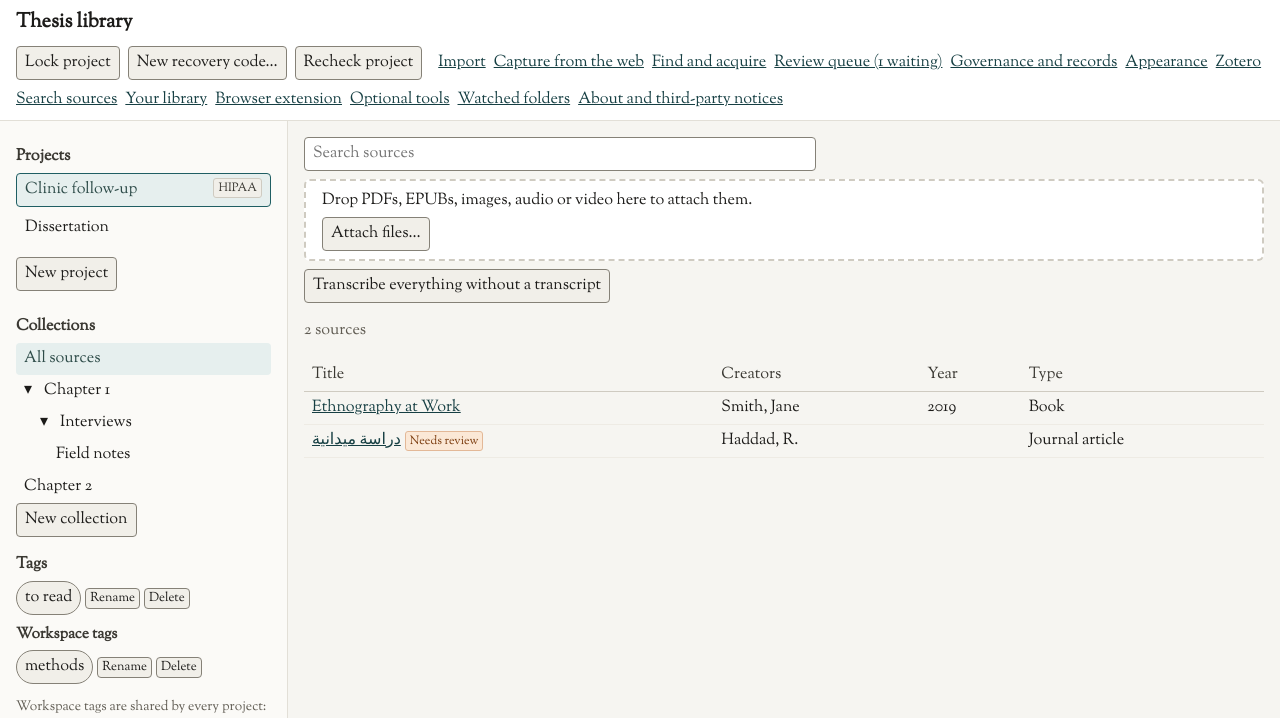
Test case: New recovery code dialog › explains, asks for the passphrase, then shows the new code once with the same saved-it step
Click the button "New recovery code…" at point(207, 63), box 128,46 -> 286,80
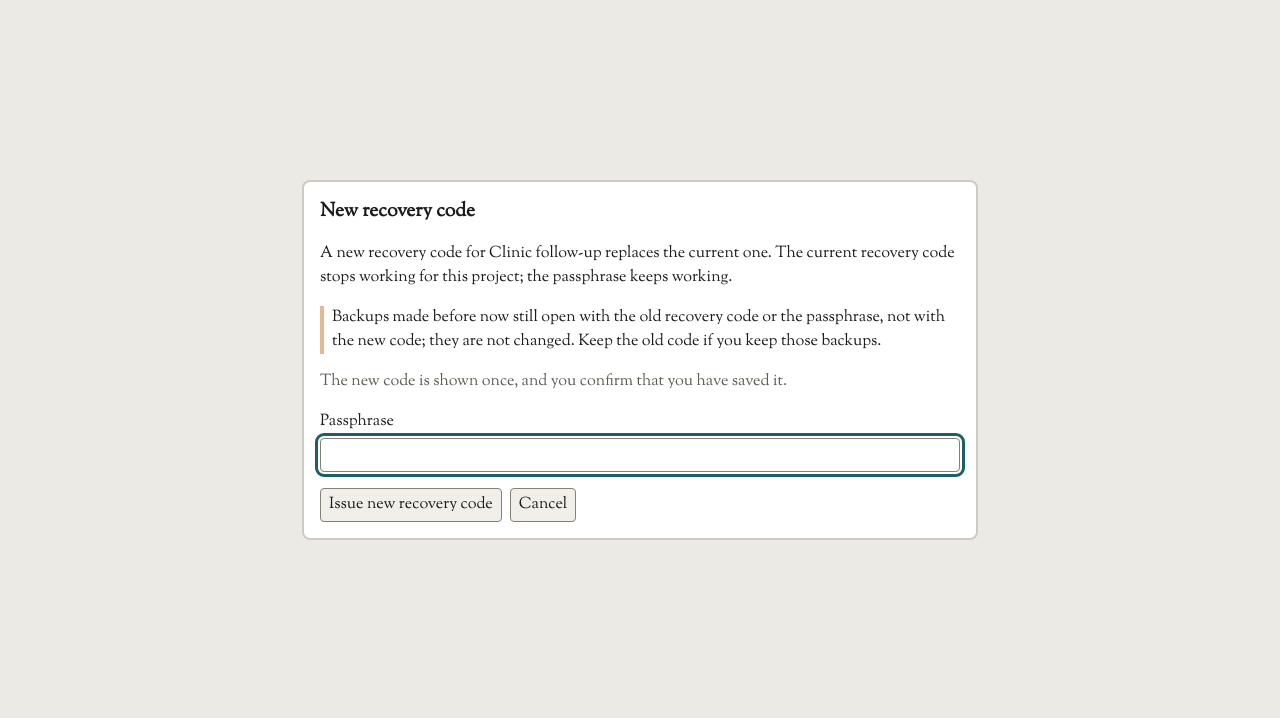
Expected: the dialog "New recovery code" shows "current recovery code stops working", 320,242 -> 955,289
Expected: the dialog "New recovery code" shows "backups made before now", 332,306 -> 945,353
Expected: the dialog "New recovery code" shows "passphrase keeps working", 320,242 -> 955,289
Type "correct horse battery" into the password field labelled "Passphrase" at point(640, 455), box 320,438 -> 960,472
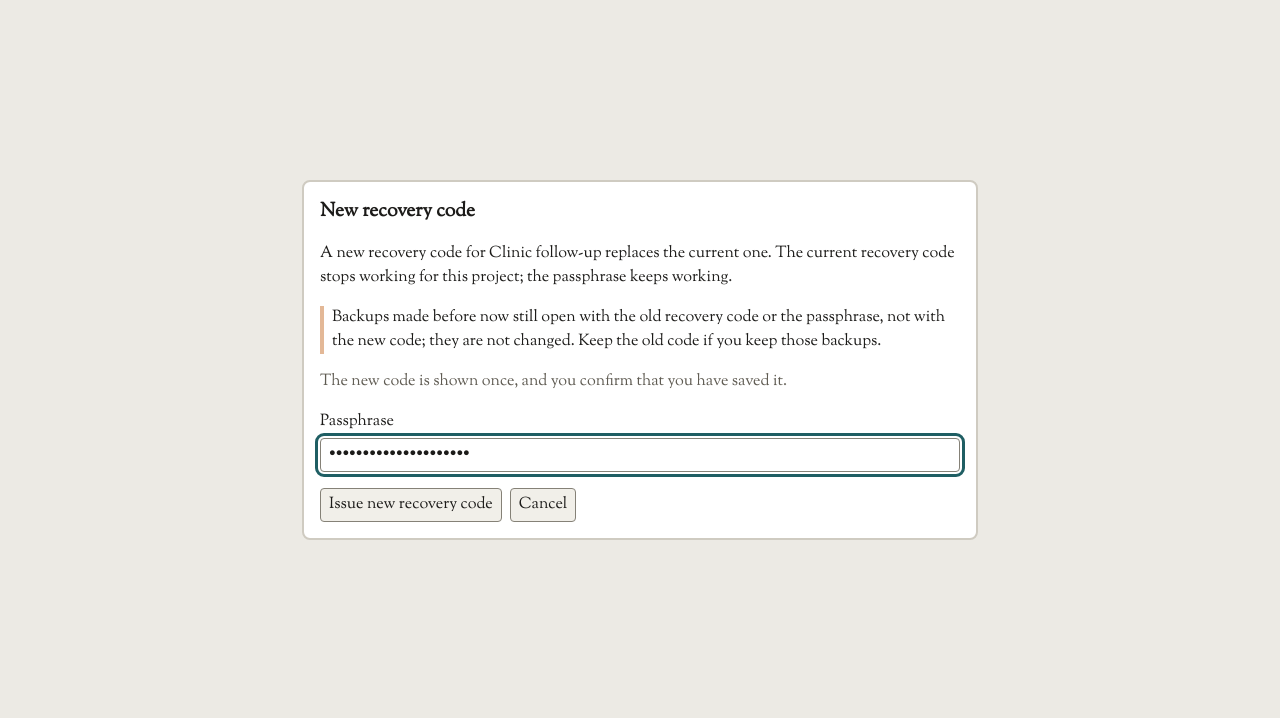
Click the button "Issue new recovery code" at point(411, 505), box 320,488 -> 502,522
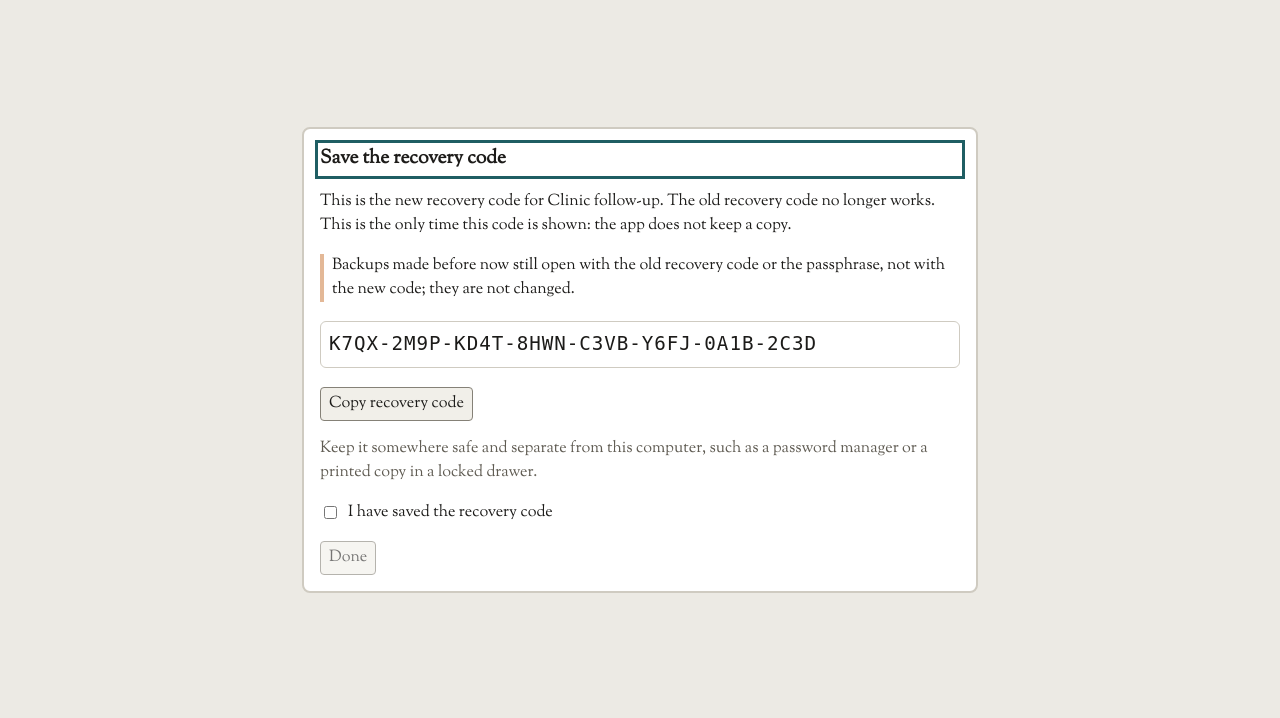
Expected: the dialog "Save the recovery code" shows "backups made before now", 332,254 -> 945,301
Expected: the dialog "Save the recovery code" shows "only time", 320,190 -> 935,237
Expected: the dialog "Save the recovery code" shows "old recovery code no longer works", 320,190 -> 935,237
Press Escape
Expected: the button "Done" is disabled, 320,541 -> 376,575
Click the button "Copy recovery code" at point(396, 404), box 320,387 -> 473,421
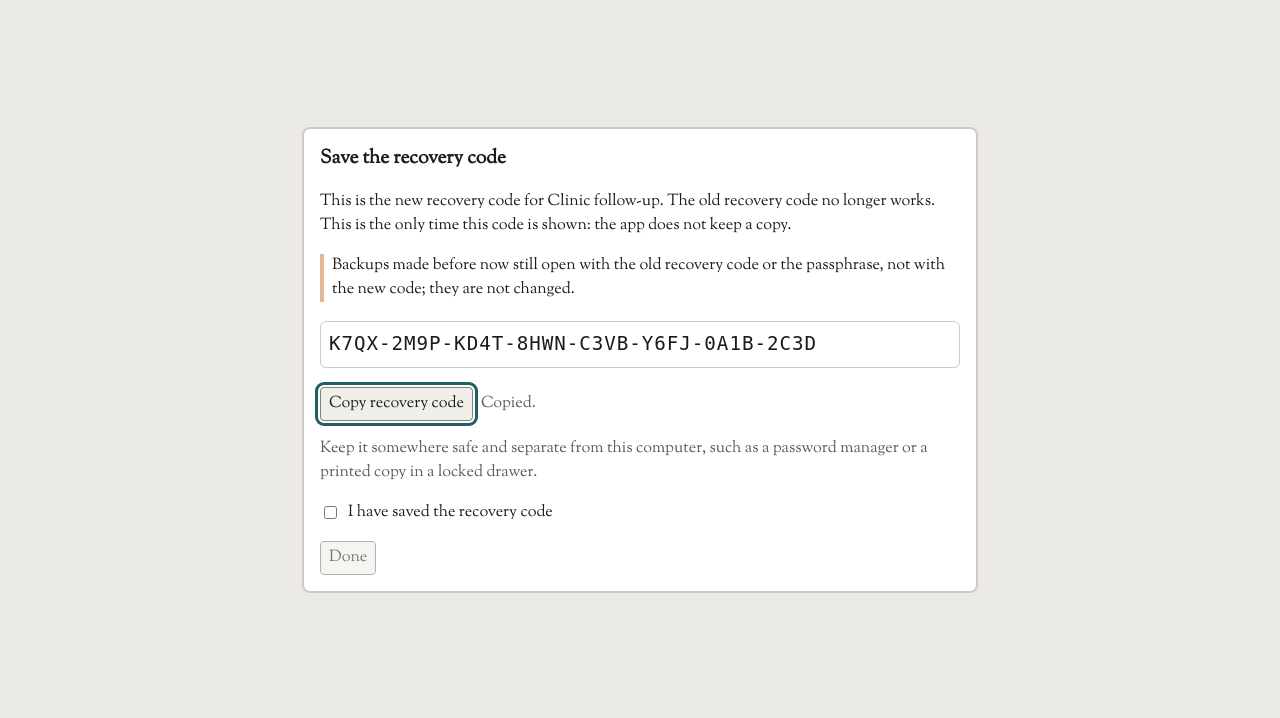
Click the checkbox labelled "I have saved the recovery code" at point(330, 513), box 324,506 -> 337,520
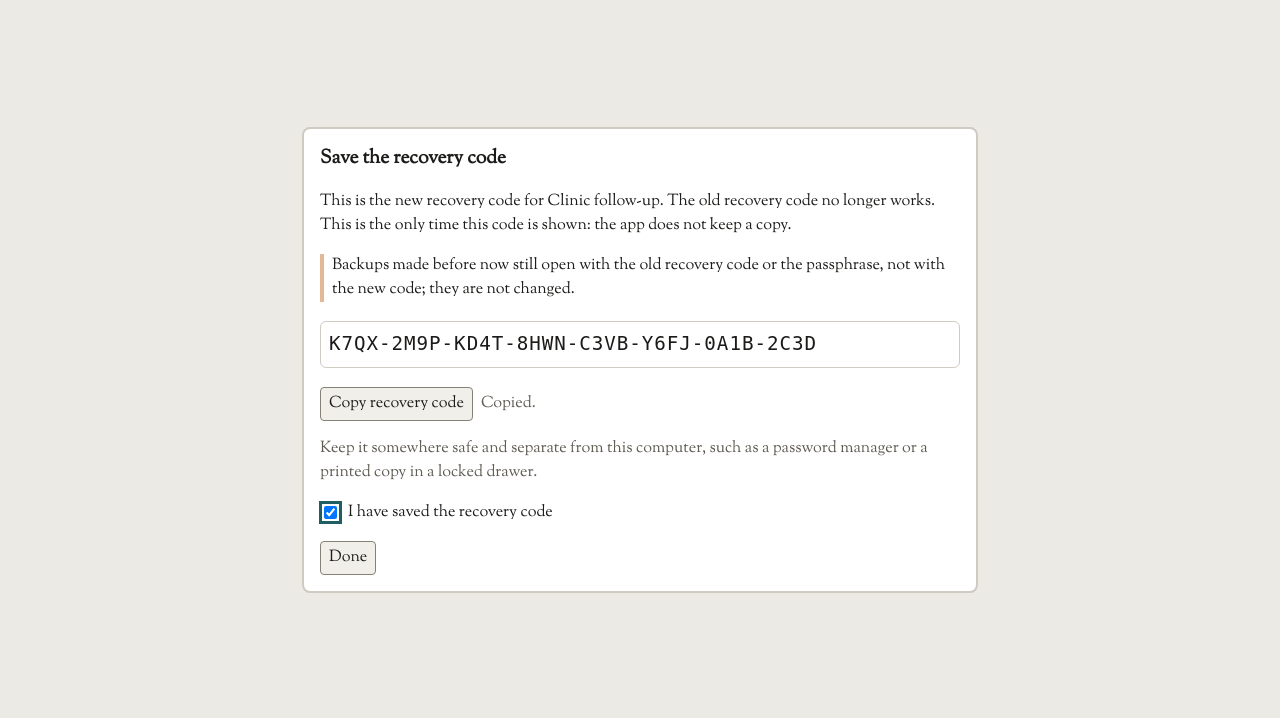
Click the button "Done" at point(348, 558), box 320,541 -> 376,575
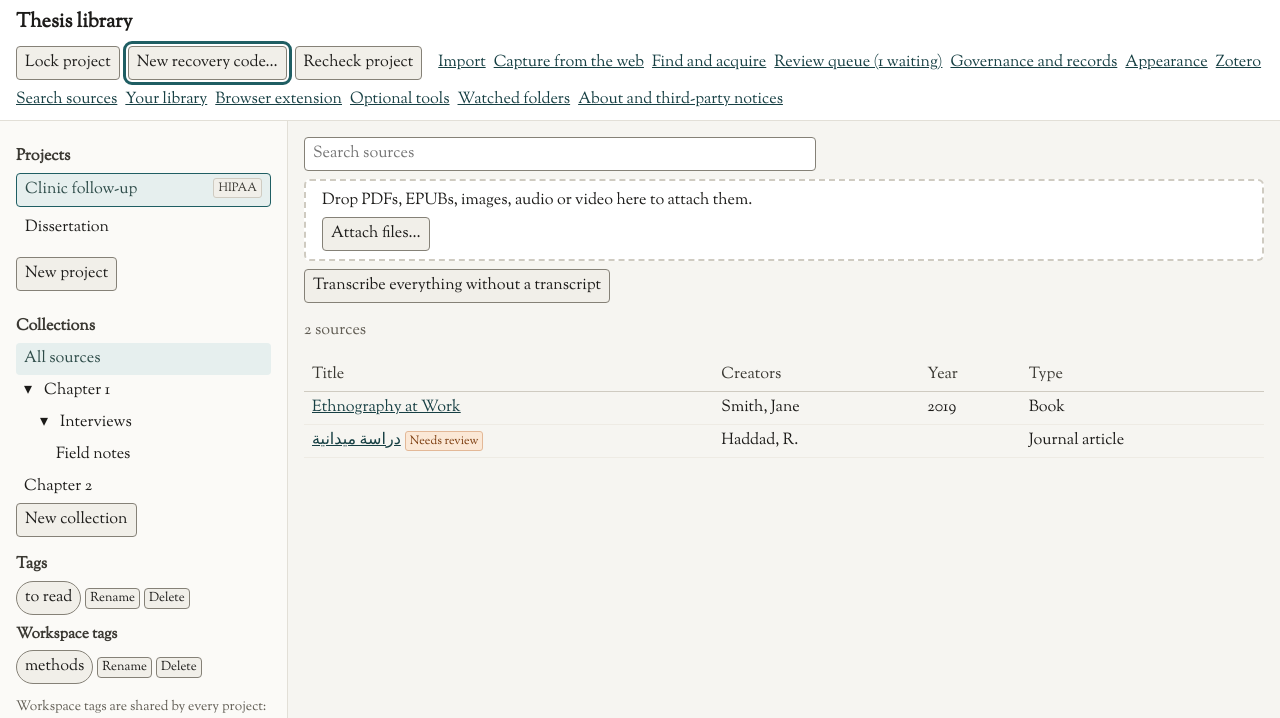
Expected: the dialog is gone
Expected: the text "K7QX-2M9P-KD4T-8HWN-C3VB-Y6FJ-0A1B-2C3D" is gone
